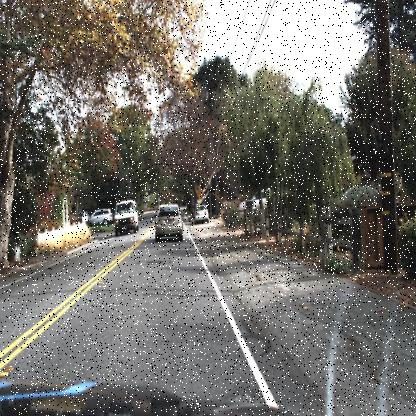car: (152, 203, 182, 243), (115, 197, 139, 235), (191, 204, 211, 227)
